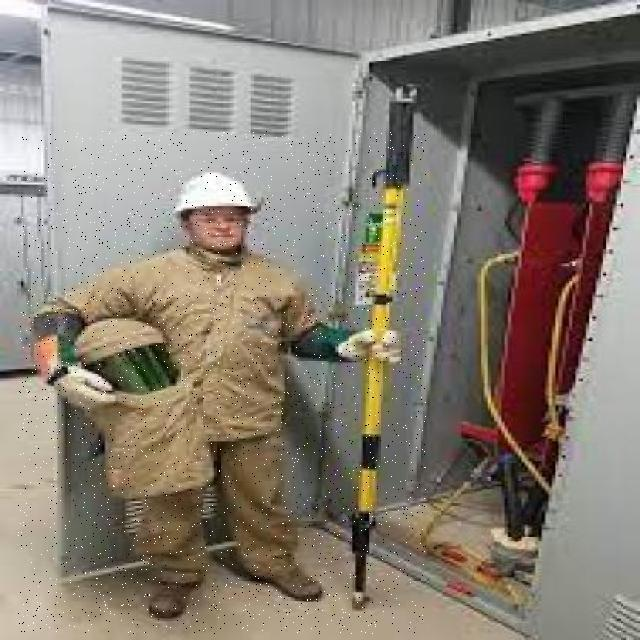boots: (140, 570, 212, 619), (257, 562, 332, 605)
gloves: (49, 360, 114, 416), (338, 326, 406, 366)
helmet on: (173, 175, 261, 258)
no vest: (135, 252, 293, 423)
person: (35, 171, 408, 614)
